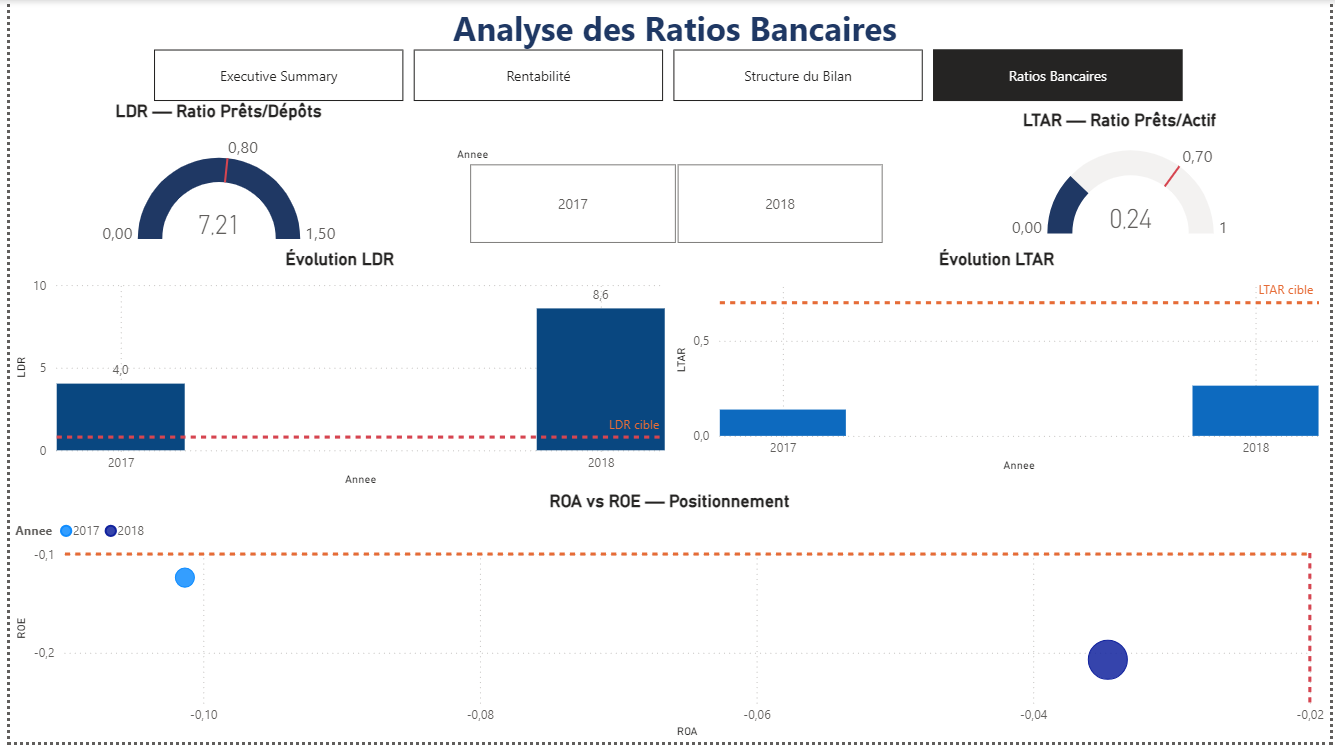

The page's visual inventory and layout, read from the dashboard file:
{"tool":"powerbi","page":{"name":"Ratios Bancaires","canvas":[1280,720],"ordinal":3},"visuals":[{"type":"textbox","box":[10,0,1270,70],"z":0},{"type":"slicer","fields":{"Values":["Dim_date.Annee"]},"box":[420,138,450,104],"z":1000},{"type":"gauge","title":"LDR — Ratio Prêts/Dépôts","fields":{"MaxValue":["Bilan.LDR_Max"],"TargetValue":["Bilan.LDR_Target"],"Y":["Indicateurs.LDR"]},"box":[34,98,338,144],"z":2000},{"type":"gauge","title":"LTAR — Ratio Prêts/Actif","fields":{"MaxValue":["Bilan.LTAR_Max"],"TargetValue":["Bilan.LTAR_Target"],"Y":["Indicateurs.LTAR"]},"box":[928,106,296,130],"z":3000},{"type":"clusteredColumnChart","title":"Évolution LDR ","fields":{"Category":["Dim_date.Annee"],"Y":["Indicateurs.LDR"]},"box":[0,242,640,234],"z":4000},{"type":"clusteredColumnChart","title":"Évolution LTAR","fields":{"Category":["Dim_date.Annee"],"Y":["Indicateurs.LTAR"]},"box":[640,242,634,220],"z":5000},{"type":"scatterChart","title":"ROA vs ROE — Positionnement","fields":{"Series":["Dim_date.Annee"],"Size":["Indicateurs.🏦 Total Actif"],"X":["Indicateurs.ROA"],"Y":["Indicateurs.ROE"]},"box":[0,476,1280,244],"z":6000},{"type":"pageNavigator","box":[140,48,1000,50],"z":7000}]}

Visuals, with their boxes in screenshot pixels (x1, y1, x2, y2), scaled from the page's 1280x720 canvas onto the 1335x748 screenshot:
textbox: [10, 0, 1334, 73]
slicer - Dim_date.Annee: [438, 143, 907, 251]
"LDR — Ratio Prêts/Dépôts" gauge: [35, 102, 388, 251]
"LTAR — Ratio Prêts/Actif" gauge: [968, 110, 1277, 245]
"Évolution LDR " clusteredColumnChart: [0, 251, 668, 495]
"Évolution LTAR" clusteredColumnChart: [668, 251, 1329, 480]
"ROA vs ROE — Positionnement" scatterChart: [0, 495, 1334, 747]
pageNavigator: [146, 50, 1189, 102]
